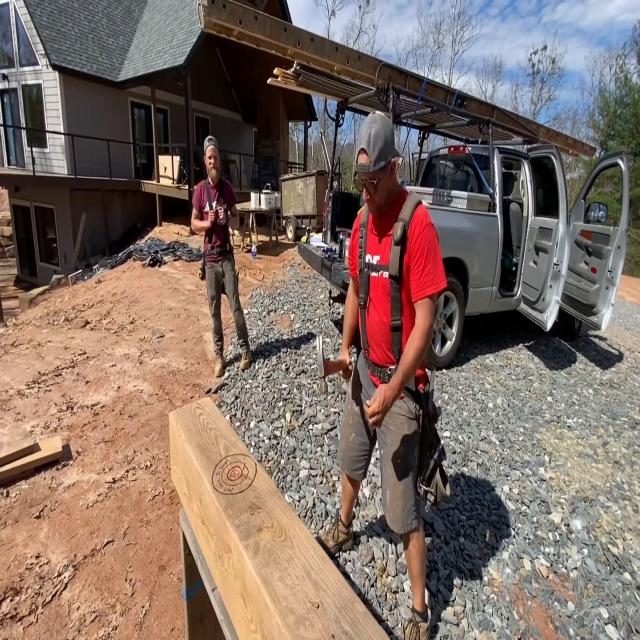hammer: (314, 333, 354, 397)
